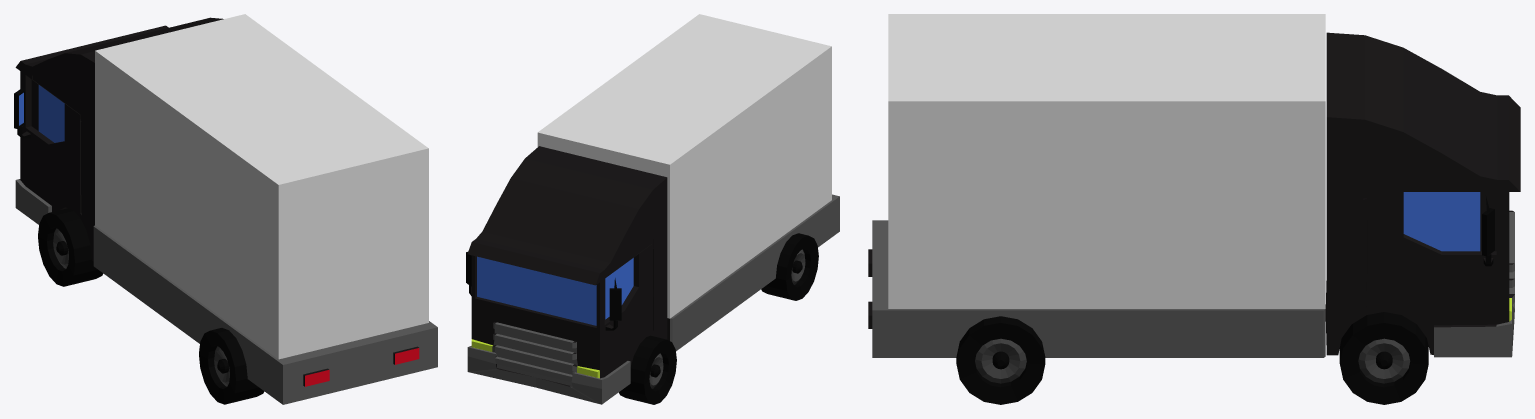
File: truckBlack.glb
3 renders of one model, left to right at view 1: azimuth 30°, elevation 25°; view 2: azimuth 150°, elevation 25°; view 3: azimuth 270°, elevation 25°, orthographic. The views are drawn at different scales.
Visible parts, largest first — view 1: Truck1; view 2: Truck1; view 3: Truck1.
Boxes of the visible parts, x1,y1,x2,y2 form: Truck1: [14, 14, 437, 404]; Truck1: [466, 14, 839, 404]; Truck1: [868, 14, 1520, 404].
Size of the model in its own units: 12 by 16 by 32.
